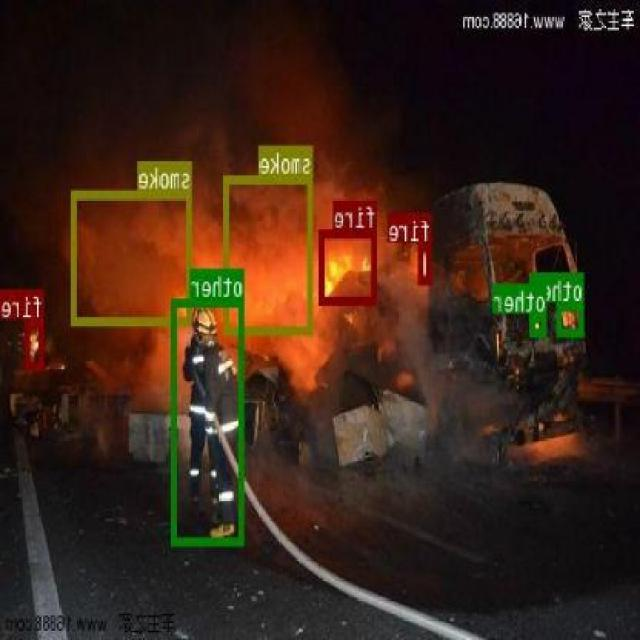Fire: (320, 229, 377, 303), (26, 317, 45, 368), (420, 242, 432, 282)
Smoke: (73, 190, 193, 324), (226, 175, 314, 334)
